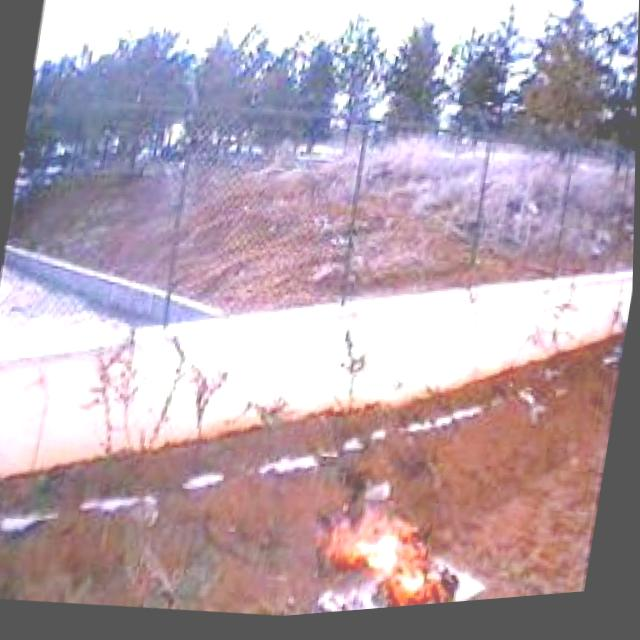helmet: (307, 483, 480, 620)
